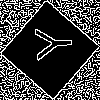Y: (25, 25, 73, 62)
